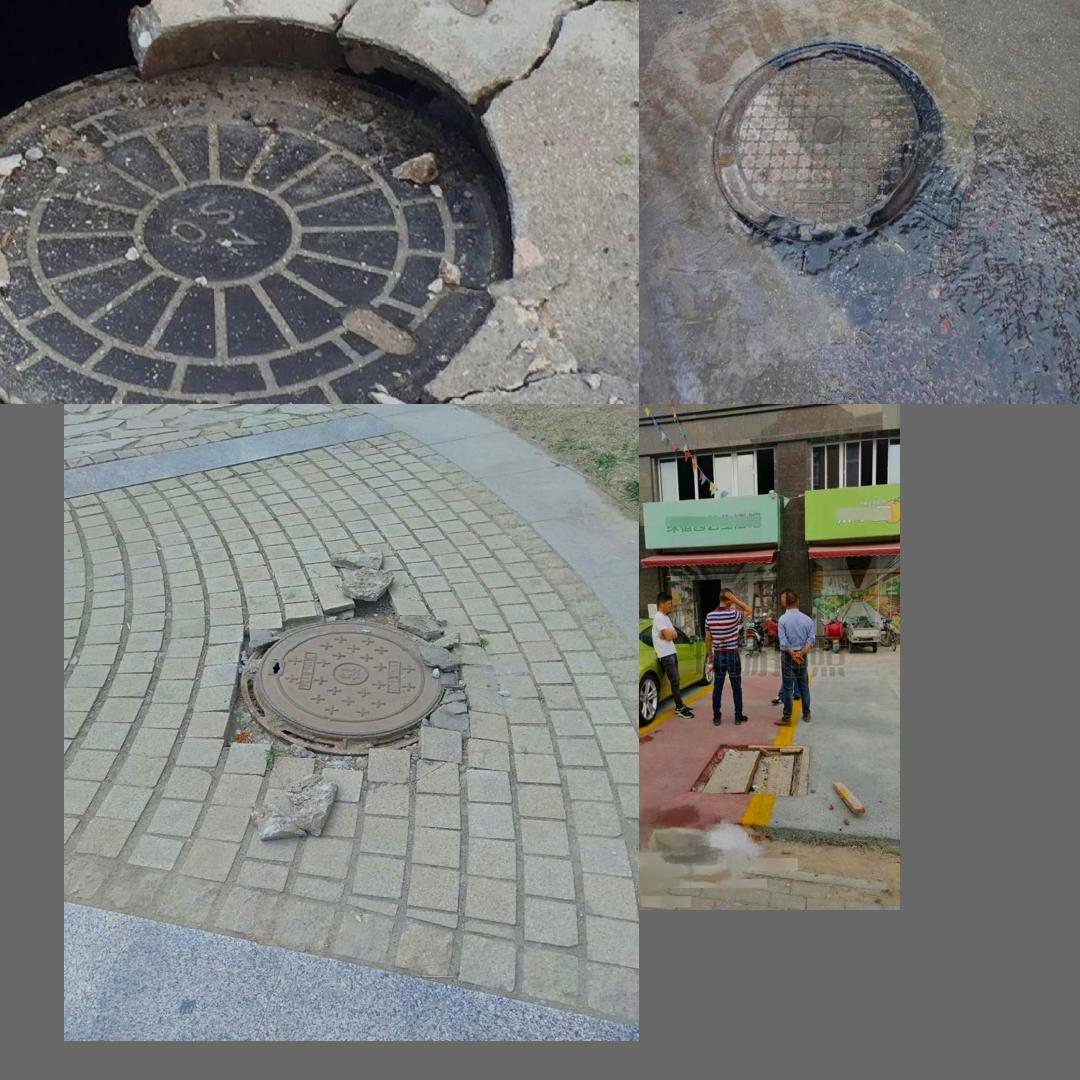circle: (0, 0, 629, 398), (693, 7, 976, 295), (201, 580, 500, 786), (694, 744, 809, 798)
